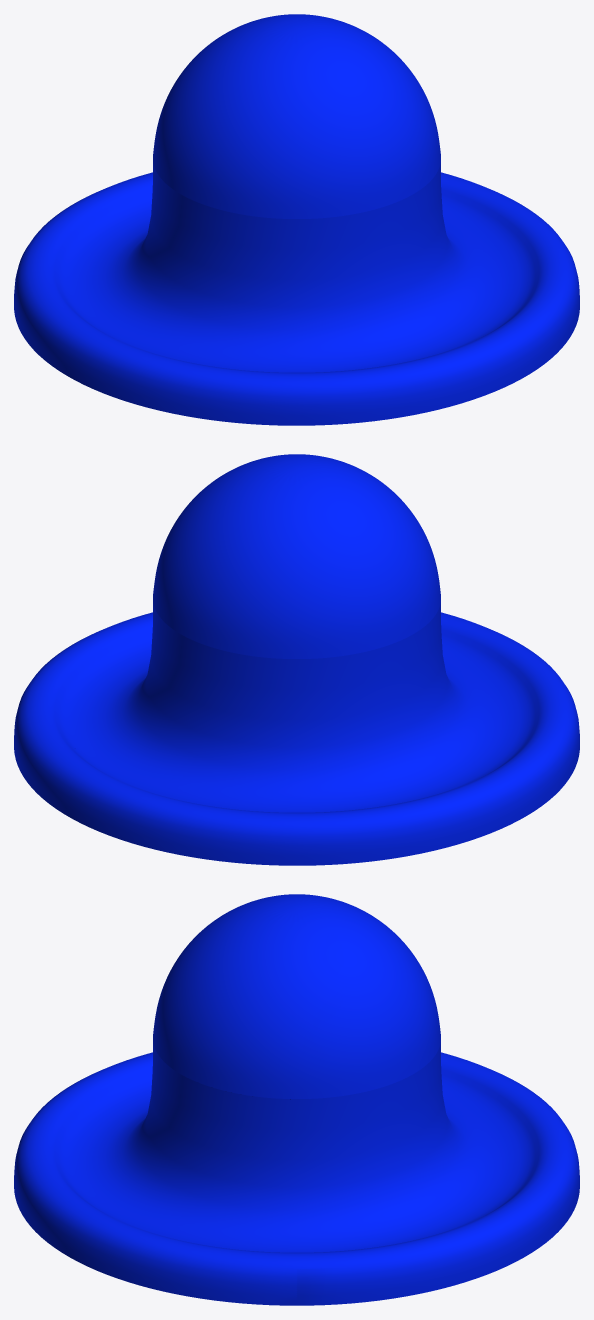
The model's file is blue_paddle.obj.
3 views of the same model, one above another, from view 1: azimuth 30°, elevation 25°; view 2: azimuth 150°, elevation 25°; view 3: azimuth 270°, elevation 25° (orthographic).
Visible parts, largest first — view 1: Circle.001; view 2: Circle.001; view 3: Circle.001.
Part boxes in pixels (x1,y1,x2,y2): Circle.001: (14, 14, 579, 425); Circle.001: (14, 454, 579, 865); Circle.001: (14, 894, 579, 1305).
Bounding box in the file's own units: 1.99 × 1.08 × 1.99.
